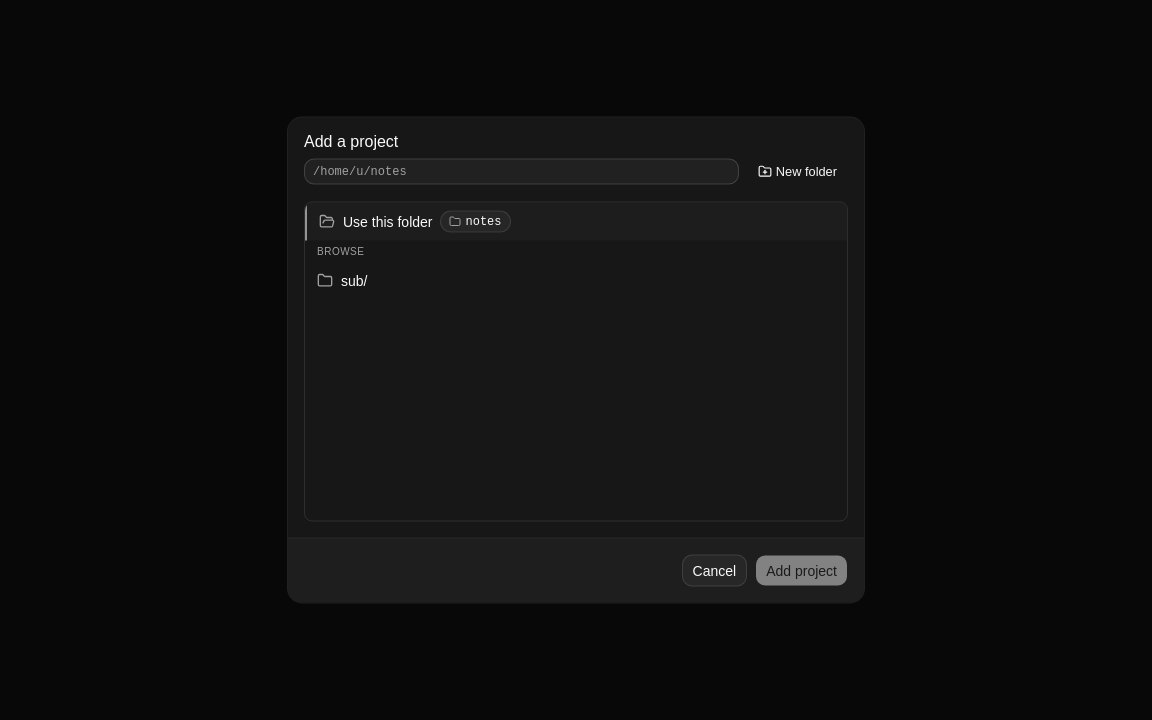
Test case: AddProjectDialog non-default branch › names the branch new worktrees start from, following the checkout box
Click the button "Use this folder notes".
click(388, 222)  # box x1=305 y1=202 x2=847 y2=240
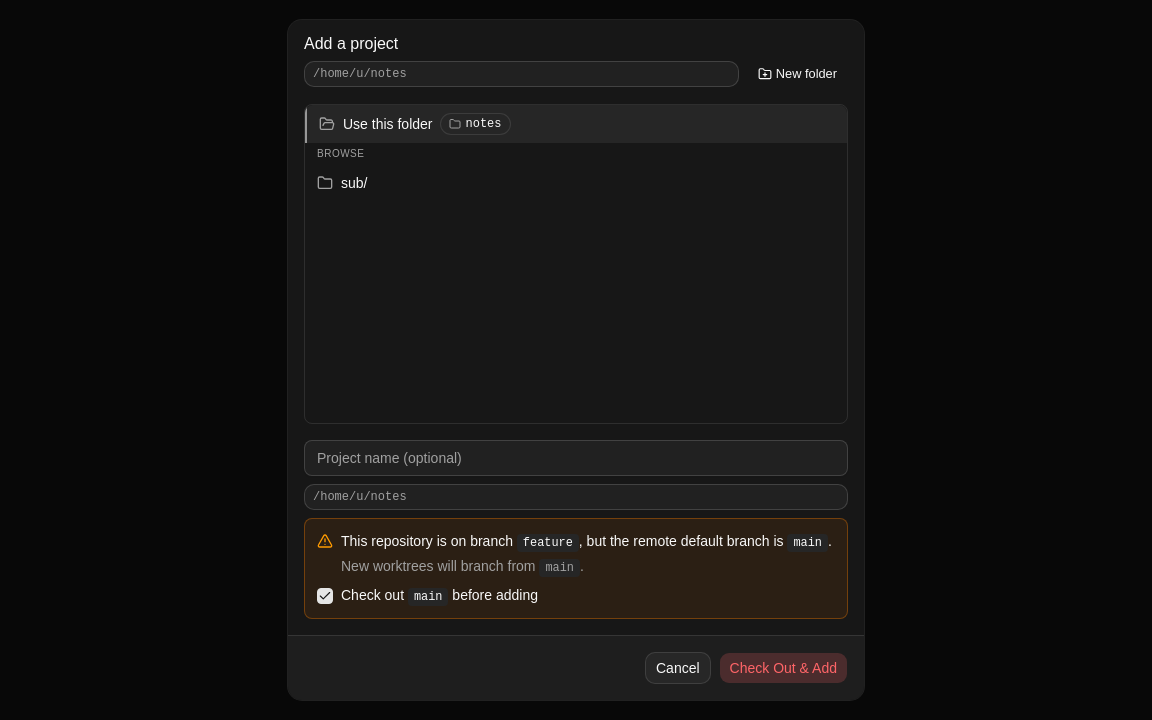
Expected: the checkbox reads "Check out main before adding", x1=317 y1=587 x2=538 y2=606
Expected: the text "main" next to "before adding" is shown, x1=414 y1=590 x2=442 y2=604
Expected: the text "New worktrees will branch from main." is shown, x1=341 y1=558 x2=584 y2=577
Click the checkbox.
click(325, 596)  # box x1=317 y1=588 x2=333 y2=604
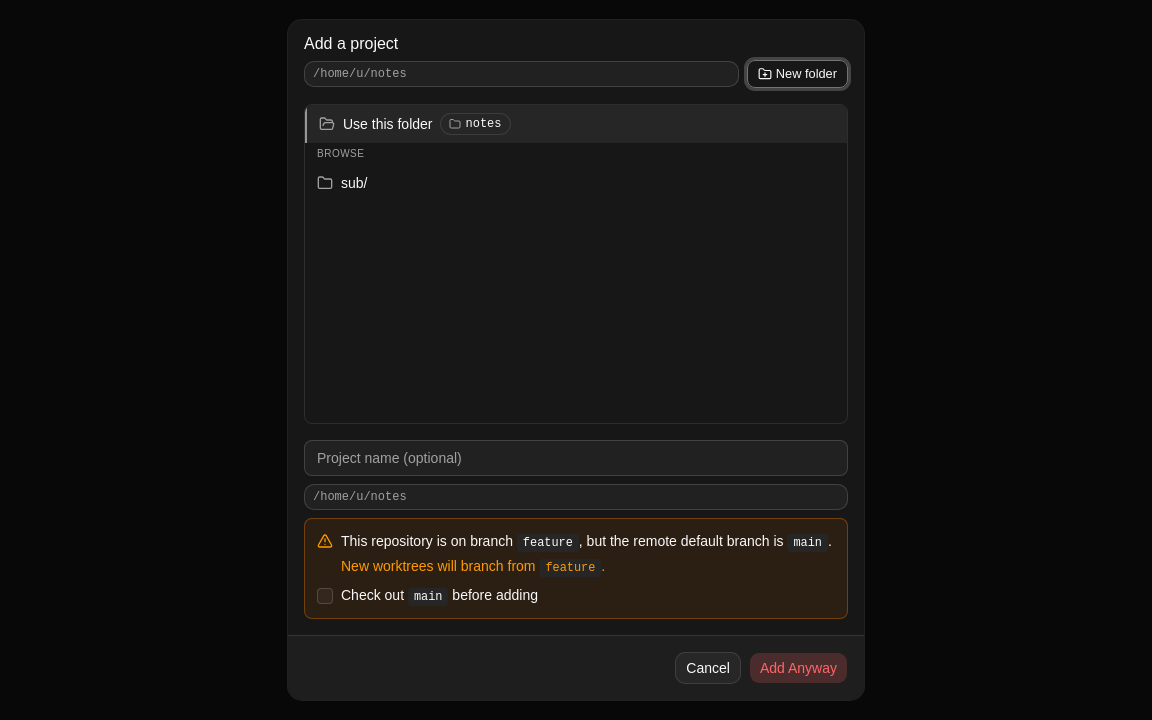
Expected: the text "New worktrees will branch from feature." is shown, x1=341 y1=558 x2=605 y2=577
Expected: the text "feature" next to "New worktrees will branch from" is shown, x1=545 y1=561 x2=595 y2=575
